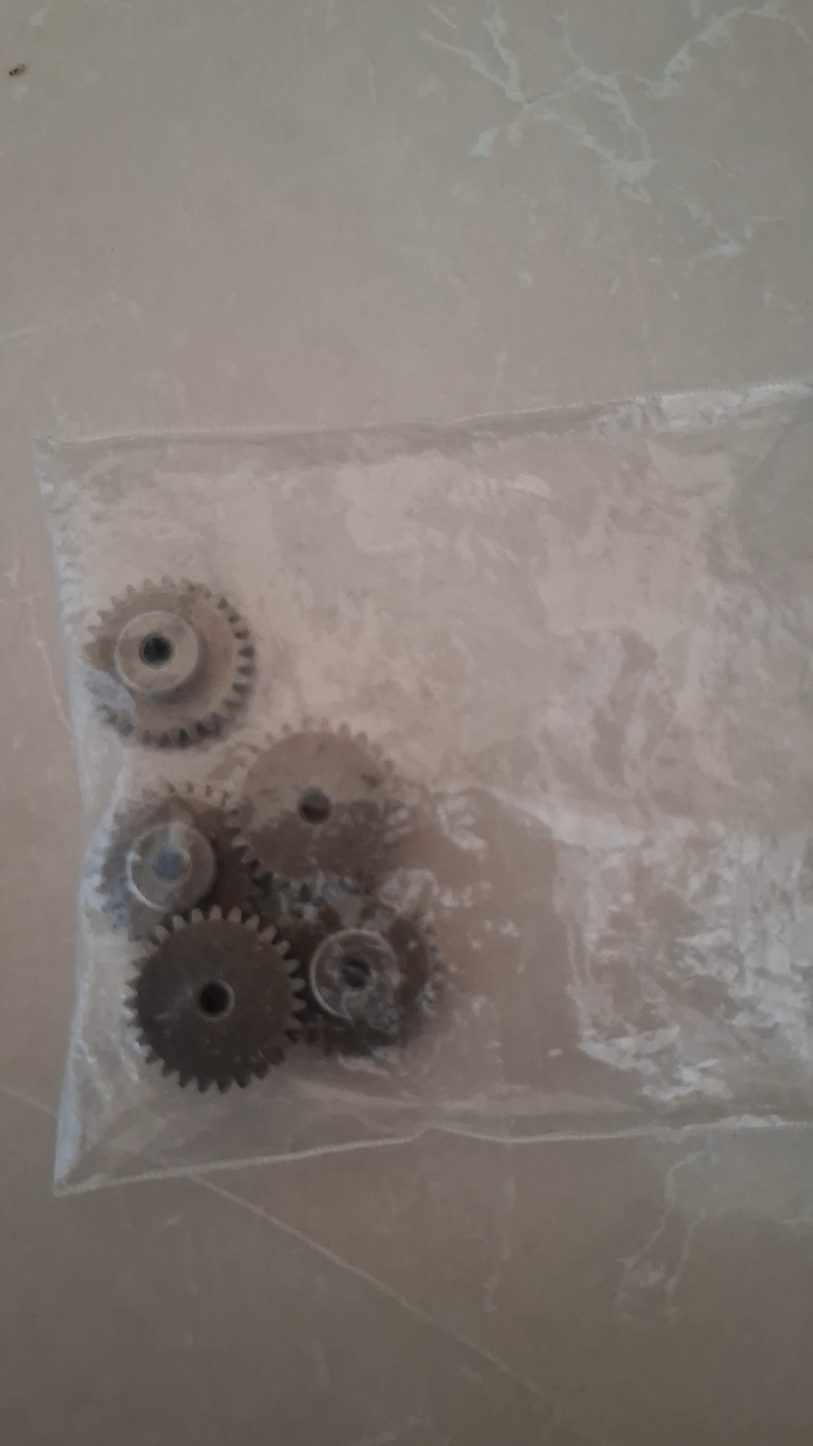spur gear: (128, 906, 304, 1091), (85, 579, 254, 746), (235, 725, 406, 885), (277, 888, 442, 1052), (98, 784, 257, 938)
